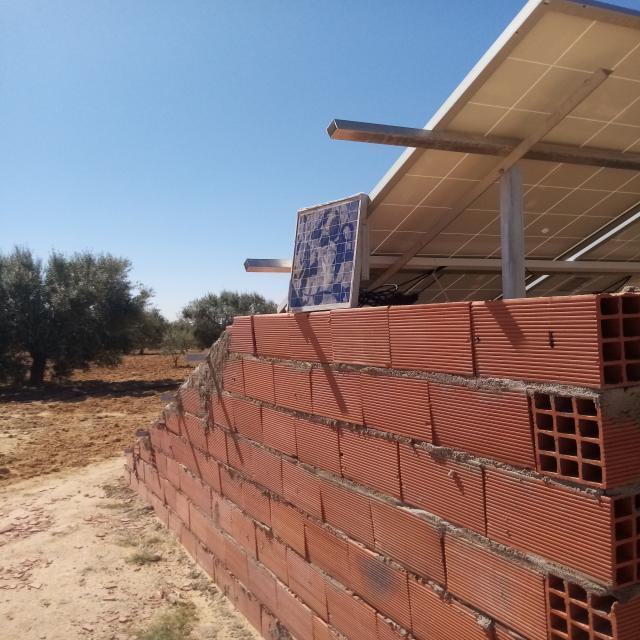faulty: (288, 195, 361, 312)
